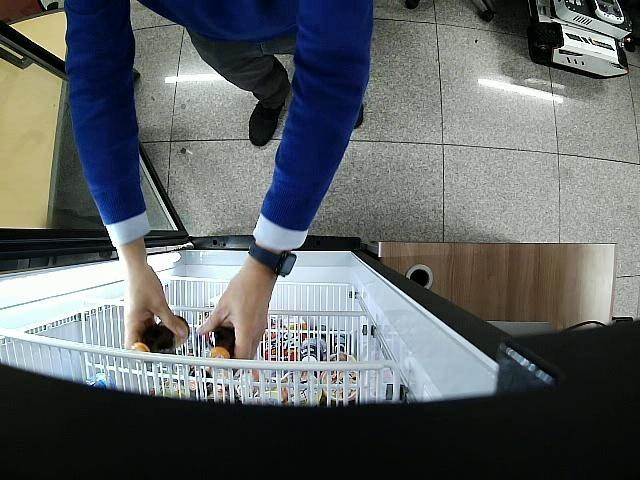17_vita500: (130, 316, 189, 353), (207, 326, 232, 358)
